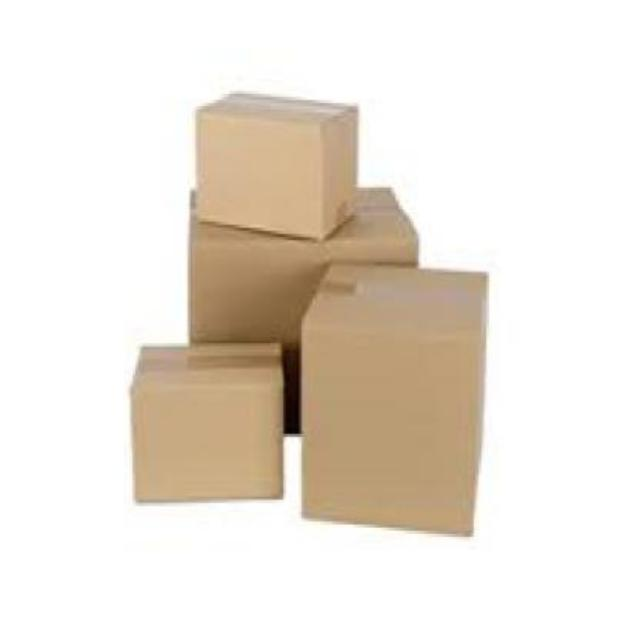cardboard_box: (141, 177, 461, 435), (296, 279, 520, 545), (168, 78, 356, 238), (118, 335, 286, 501)
